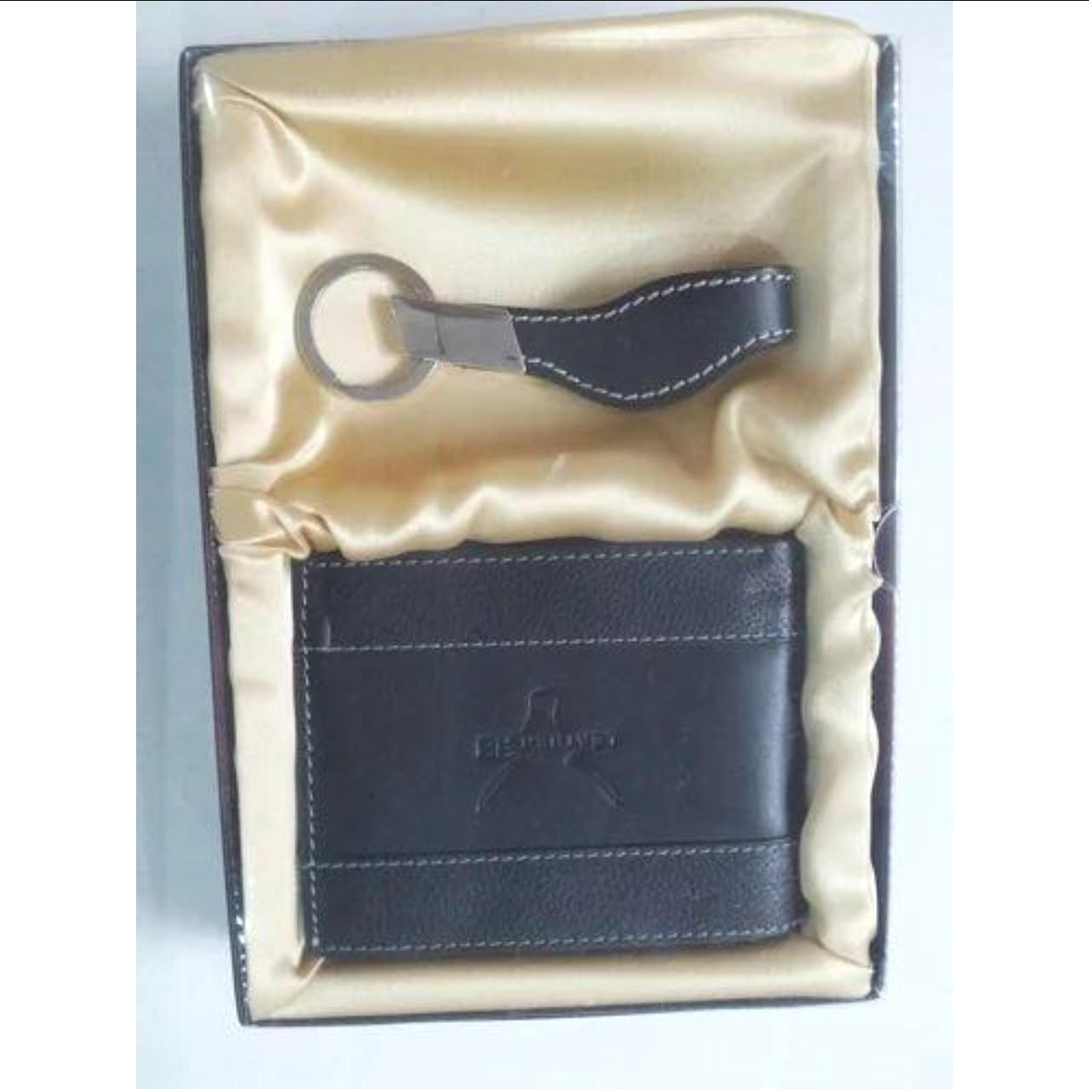wallet: (277, 546, 812, 948)
